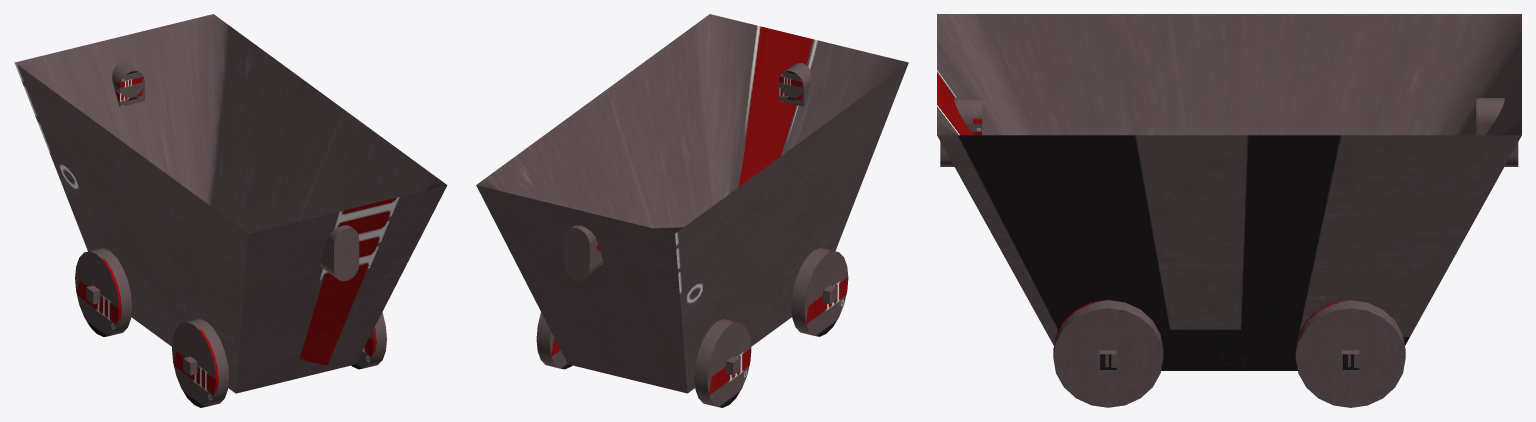
Rendered from Minecart.obj.
The picture shows the model from 3 angles, left to right: view 1: azimuth 30°, elevation 25°; view 2: azimuth 150°, elevation 25°; view 3: azimuth 270°, elevation 25°; orthographic projection. The views are drawn at different scales.
Visible parts, largest first — view 1: polySurface24; view 2: polySurface24; view 3: polySurface24.
Part boxes in pixels (bbox=[...]): polySurface24: bbox=[14, 14, 447, 407]; polySurface24: bbox=[476, 14, 908, 407]; polySurface24: bbox=[937, 14, 1521, 407].
Size of the model in its own units: 2.5 by 2.7 by 5.08.
